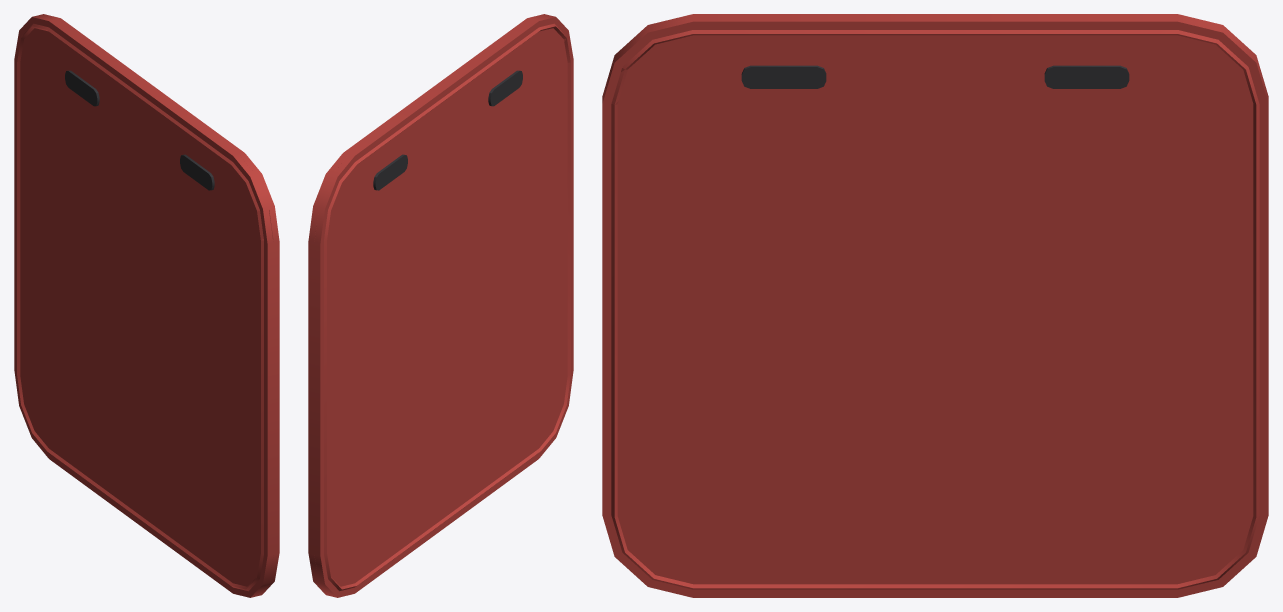
File: plate_lod1.glb
The picture shows the model from 3 angles, left to right: view 1: azimuth 30°, elevation 25°; view 2: azimuth 150°, elevation 25°; view 3: azimuth 270°, elevation 25°; orthographic projection. The views are drawn at different scales.
Parts seen in each view (by area): view 1: plate_lod1; view 2: plate_lod1; view 3: plate_lod1.
Part boxes in pixels (x1=…): plate_lod1: x1=14, y1=14, x2=279, y2=597; plate_lod1: x1=308, y1=14, x2=573, y2=597; plate_lod1: x1=602, y1=14, x2=1268, y2=597.
Size of the model in its own units: 0.0084 by 0.21 by 0.22.
